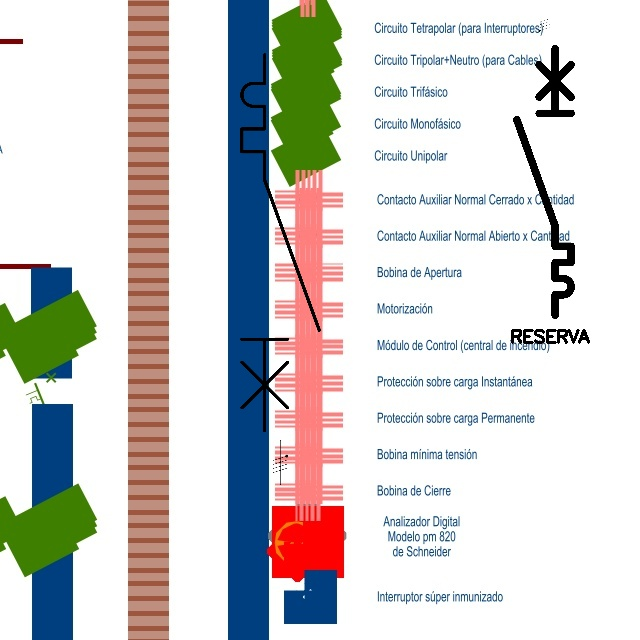interruptor_termomagnetico: (232, 45, 328, 440), (510, 41, 578, 321)
